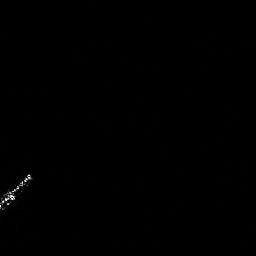ship: (1, 173, 33, 213)
